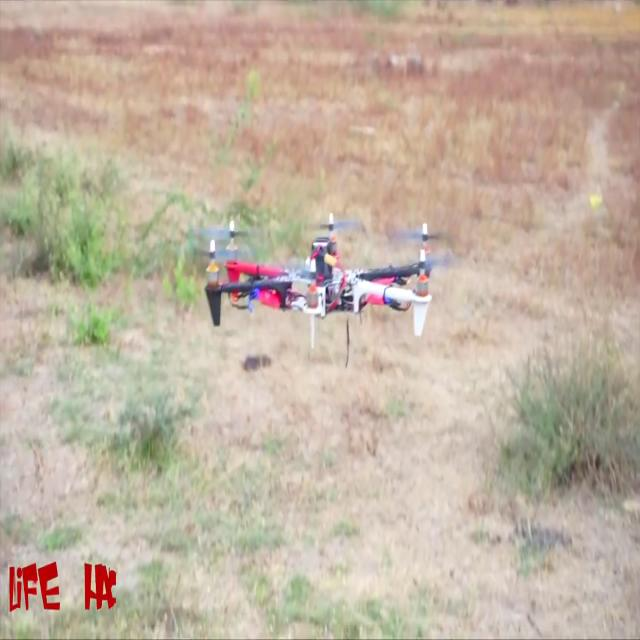drone: (165, 177, 448, 370)
